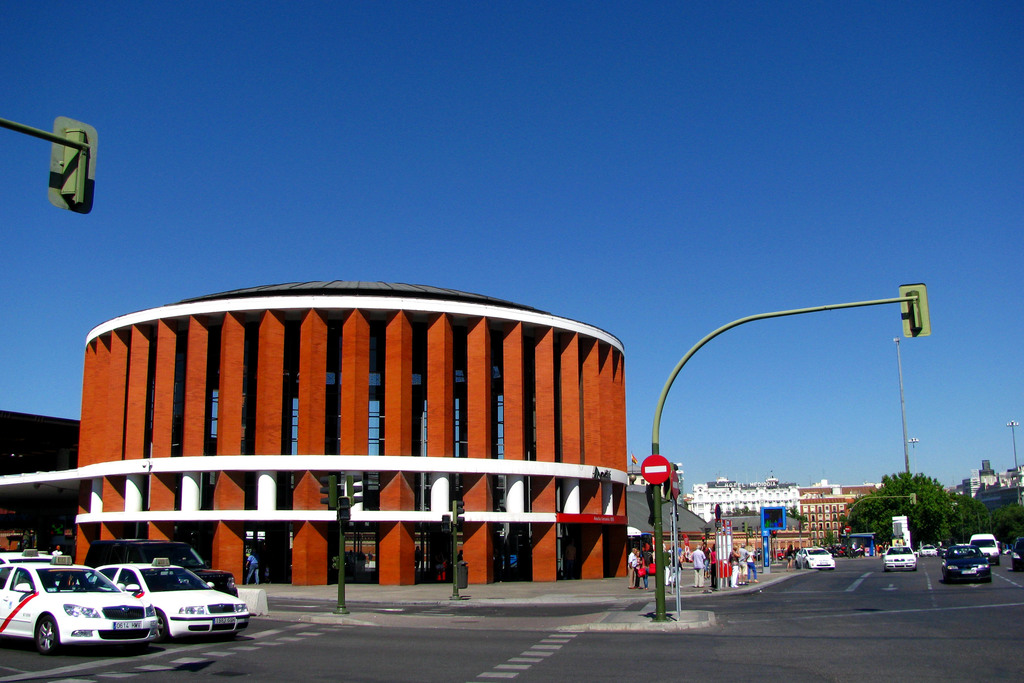Car: (0, 551, 156, 655), (74, 556, 252, 641), (80, 536, 240, 593), (942, 545, 989, 585), (0, 547, 70, 567), (977, 528, 1007, 556), (885, 540, 912, 570), (796, 546, 833, 567), (917, 543, 937, 560), (1013, 538, 1023, 571), (885, 544, 902, 563)
